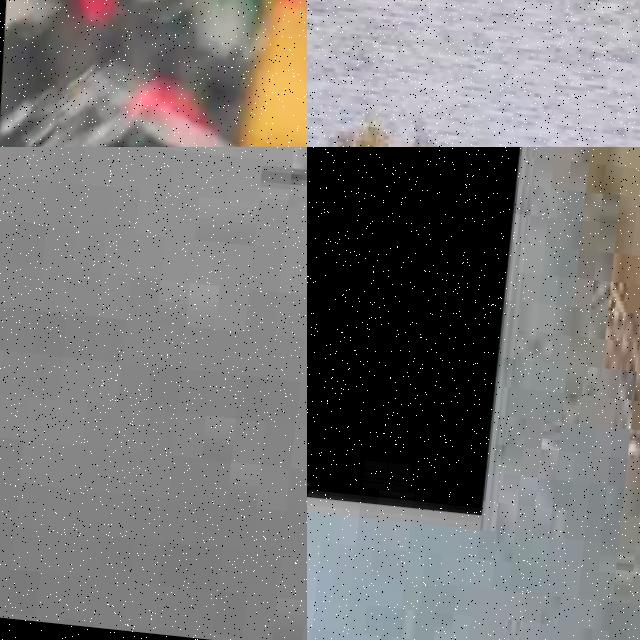drone: (0, 0, 307, 147)
